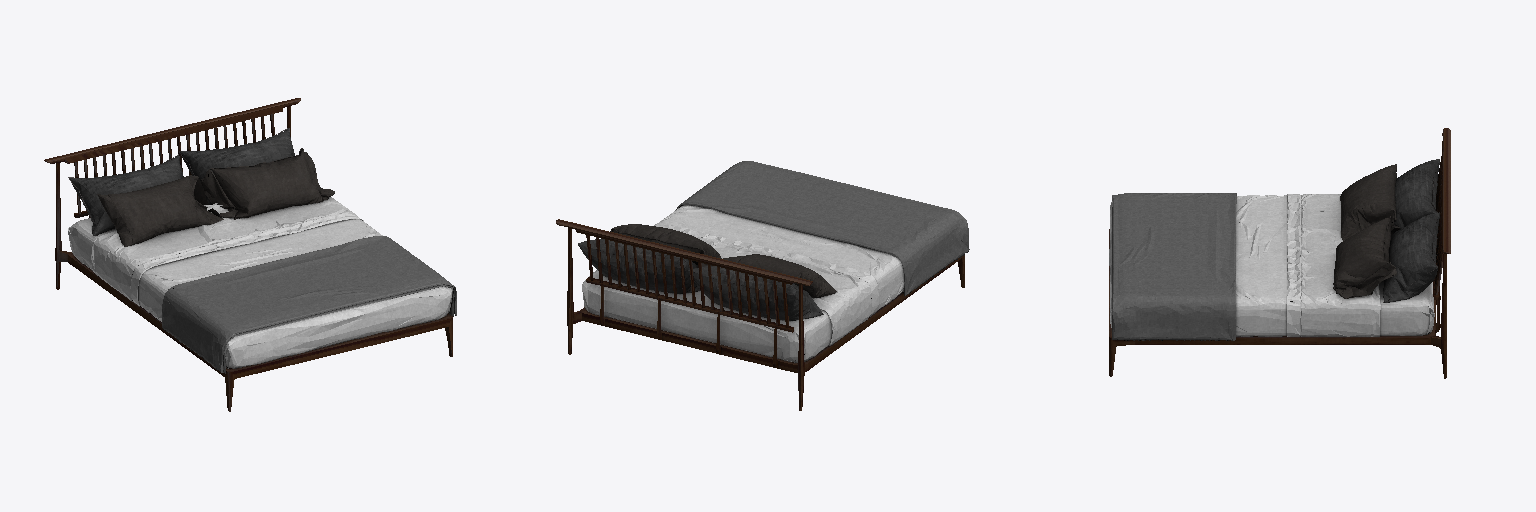
The picture shows the model from 3 angles: view 1: azimuth 30°, elevation 25°; view 2: azimuth 150°, elevation 25°; view 3: azimuth 270°, elevation 25°; orthographic projection.
Visible parts, largest first — view 1: solid_002, solid_004, solid_003, solid_006, solid_005, solid_007; view 2: solid_002, solid_004, solid_006, solid_005, solid_003, solid_007; view 3: solid_004, solid_002, solid_003, solid_005, solid_006, solid_007.
Boxes of the visible parts, <box> form: solid_002: <box>68,197,453,368</box>; solid_004: <box>162,236,456,373</box>; solid_003: <box>97,148,334,246</box>; solid_006: <box>44,98,452,411</box>; solid_005: <box>69,128,294,235</box>; solid_007: <box>131,213,363,306</box>; solid_002: <box>582,205,904,362</box>; solid_004: <box>676,161,969,295</box>; solid_006: <box>556,219,964,410</box>; solid_005: <box>578,239,823,320</box>; solid_003: <box>601,224,836,297</box>; solid_007: <box>654,223,878,316</box>; solid_004: <box>1112,193,1236,340</box>; solid_002: <box>1109,194,1434,336</box>; solid_003: <box>1333,164,1399,298</box>; solid_005: <box>1383,159,1439,302</box>; solid_006: <box>1109,128,1450,378</box>; solid_007: <box>1287,194,1300,336</box>.
Size of the model in its own units: 1.65 by 0.8171 by 1.92.
Materials: 1 (1 with a texture image).